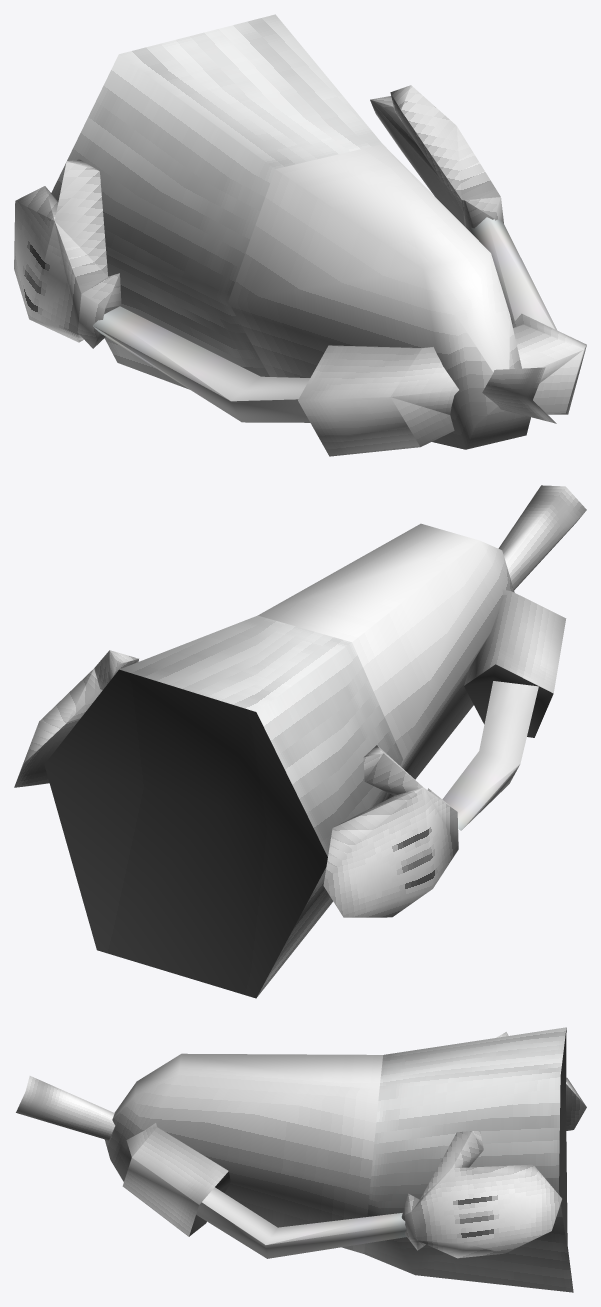
File: torso_ld_500.glb
3 views of the same model, one above another, from view 1: azimuth 30°, elevation 25°; view 2: azimuth 150°, elevation 25°; view 3: azimuth 270°, elevation 25° (orthographic). The views are drawn at different scales.
Parts seen in each view (by area): view 1: torso-bot, torso-top, hands, sleeves, arms, neck; view 2: torso-bot, torso-top, hands, sleeves, arms, neck; view 3: torso-top, torso-bot, hands, sleeves, arms, neck.
Part boxes in pixels (x1,y1,x2,y2): torso-bot: (51,14,382,389); torso-top: (228,144,530,449); hands: (14,85,503,348); sleeves: (298,313,586,456); arms: (93,217,556,422); neck: (482,367,556,423); torso-bot: (44,615,402,998); torso-top: (258,523,514,801); hands: (14,650,458,917); sleeves: (464,589,566,737); arms: (442,681,538,830); neck: (498,485,586,590); torso-top: (104,1053,383,1253); torso-bot: (364,1027,573,1292); hands: (401,1032,586,1258); sleeves: (122,1123,230,1236); arms: (196,1187,406,1258); neck: (16,1076,115,1140).
Bounding box in the file's own units: 2.08 × 1.43 × 3.34.
Materials: 6 (6 with a texture image).
